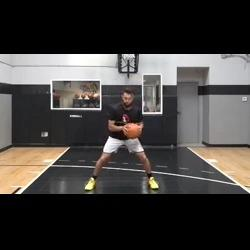BasketBall: (121, 121, 143, 139)
Player: (82, 86, 161, 192)
